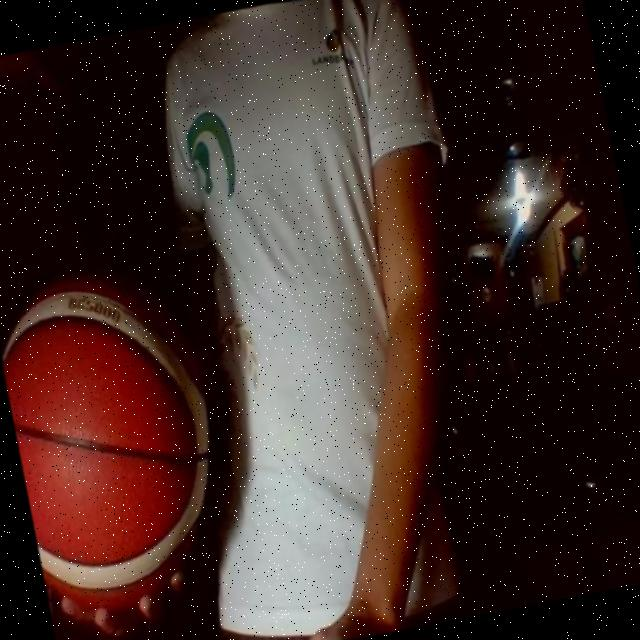ball: (0, 249, 260, 640)
